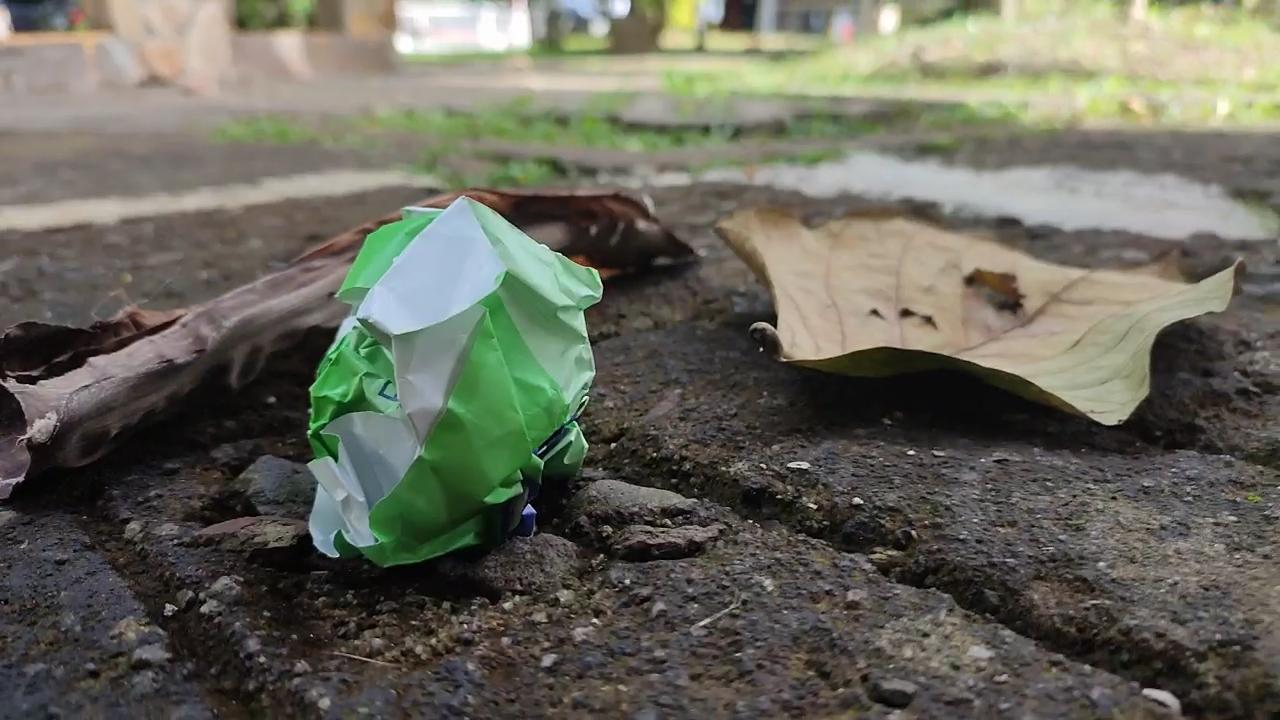Paper: (282, 183, 611, 565)
